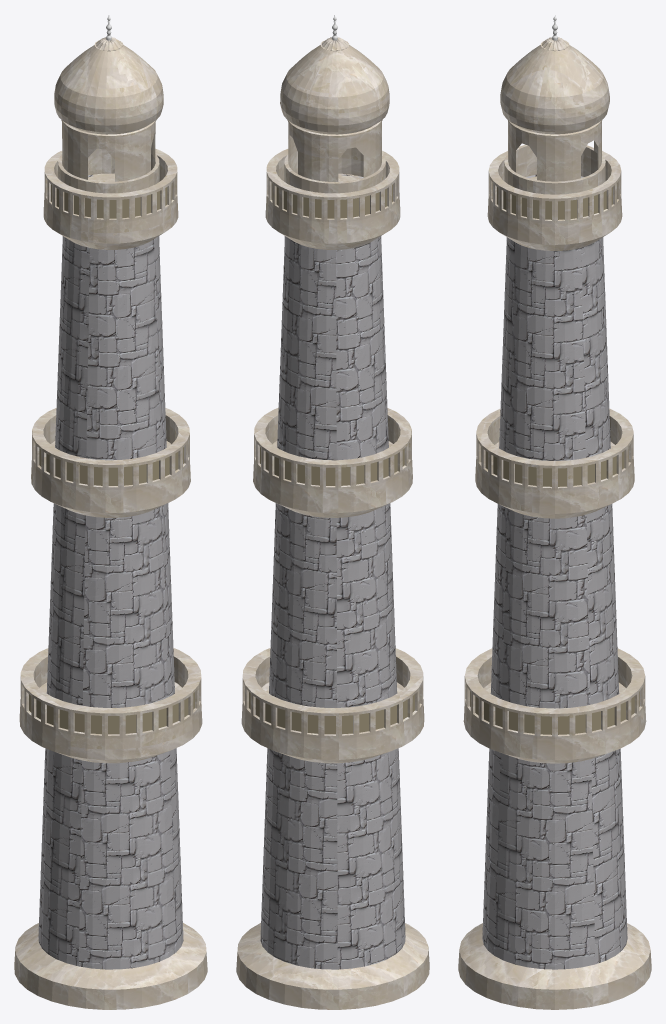
The model's file is Tower.fbx.
3 renders of one model, left to right at view 1: azimuth 30°, elevation 25°; view 2: azimuth 150°, elevation 25°; view 3: azimuth 270°, elevation 25°, orthographic.
Visible parts, largest first — view 1: Cylinder.012; view 2: Cylinder.012; view 3: Cylinder.012.
Part boxes in pixels (bbox=[...]): Cylinder.012: bbox=[14, 15, 207, 1009]; Cylinder.012: bbox=[236, 15, 429, 1009]; Cylinder.012: bbox=[458, 15, 651, 1009].
Size of the model in its own units: 710 by 3861 by 710.
Materials: 4 (2 with a texture image).
